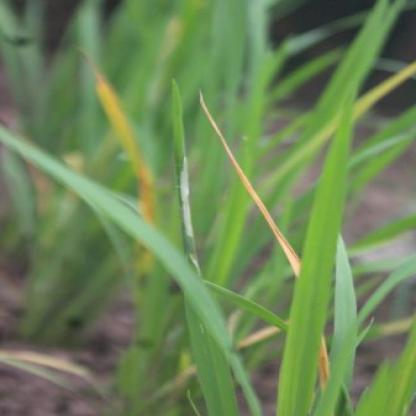Tungro: (191, 87, 298, 262), (74, 78, 162, 231)
